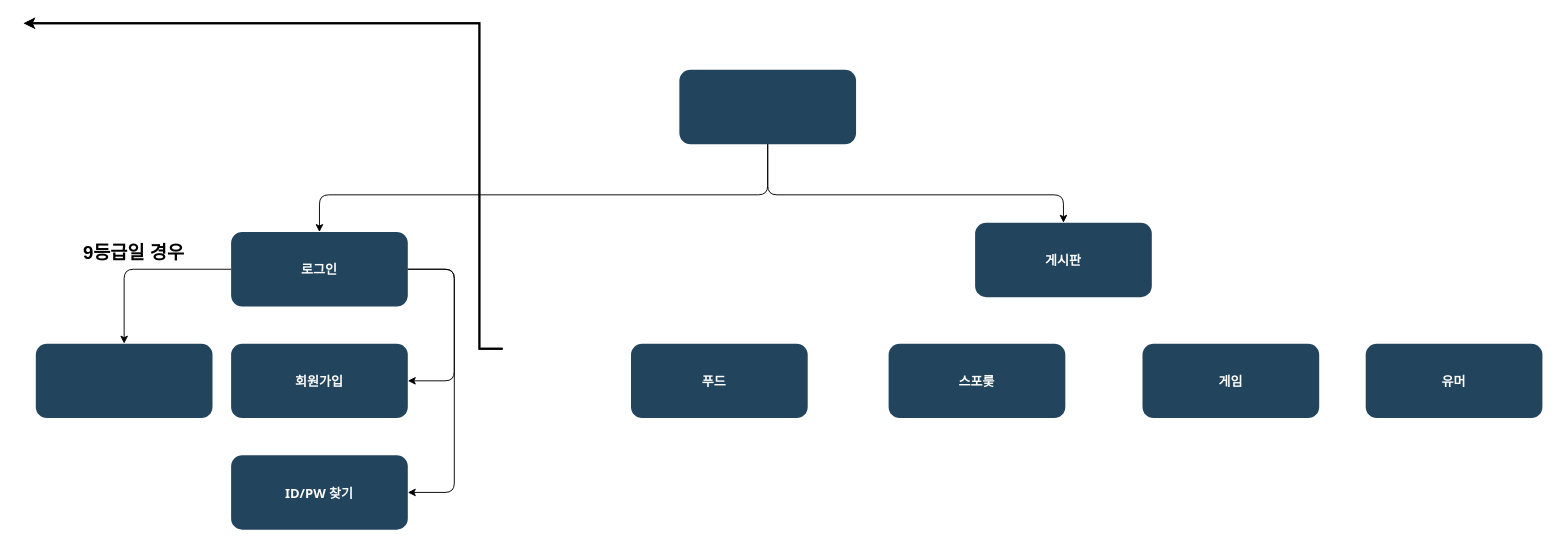
The diagram is 1558 pixels wide and 546 high, and some of its shapes have lost their labels. The shapes that lost their labels are listed below. From the top down, each one's centre as x and y in pixels, then its label:
[767,106]: 홈페이지 (index)
[123,380]: 관리자
